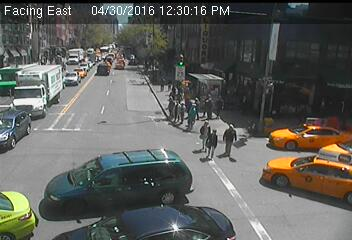neg: (204, 179, 225, 206), (167, 52, 187, 78), (209, 2, 227, 25), (289, 151, 307, 174), (77, 172, 94, 194), (257, 112, 272, 132), (40, 141, 55, 161), (58, 93, 73, 112), (150, 133, 164, 151), (88, 119, 101, 135), (293, 61, 305, 78), (258, 65, 270, 81), (333, 57, 345, 73), (215, 51, 227, 66), (28, 97, 39, 112), (155, 183, 166, 198), (139, 41, 150, 56), (267, 32, 277, 46), (57, 27, 67, 41), (41, 56, 51, 70), (129, 86, 139, 100), (151, 13, 161, 27), (121, 55, 131, 68), (99, 69, 108, 81), (95, 90, 102, 100)
pos: (217, 122, 242, 155), (192, 118, 215, 149), (183, 102, 205, 132), (204, 129, 222, 154), (168, 98, 186, 122), (174, 100, 191, 122), (201, 93, 217, 115), (161, 95, 177, 115), (211, 92, 227, 112), (190, 95, 205, 115), (169, 83, 178, 95)
